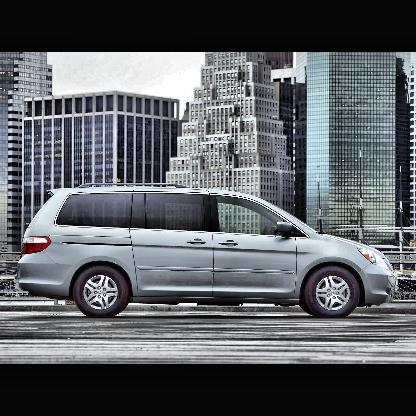Honda Odyssey Minivan 2007: (14, 181, 400, 321)
